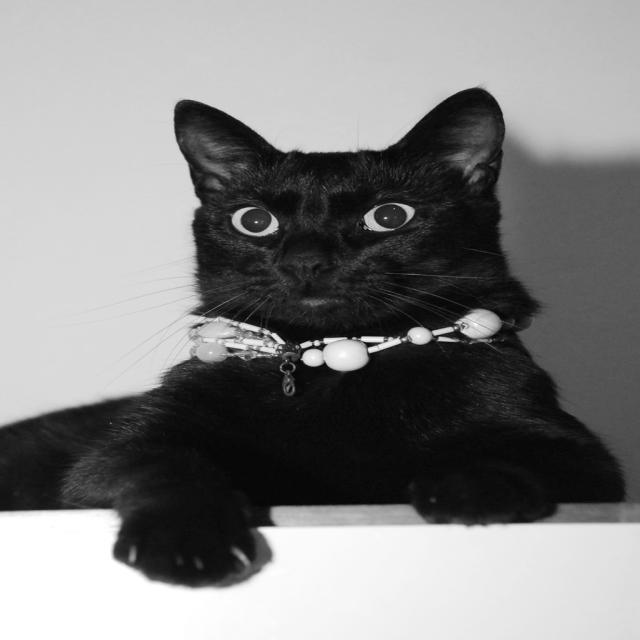Cat: (3, 88, 628, 592)
